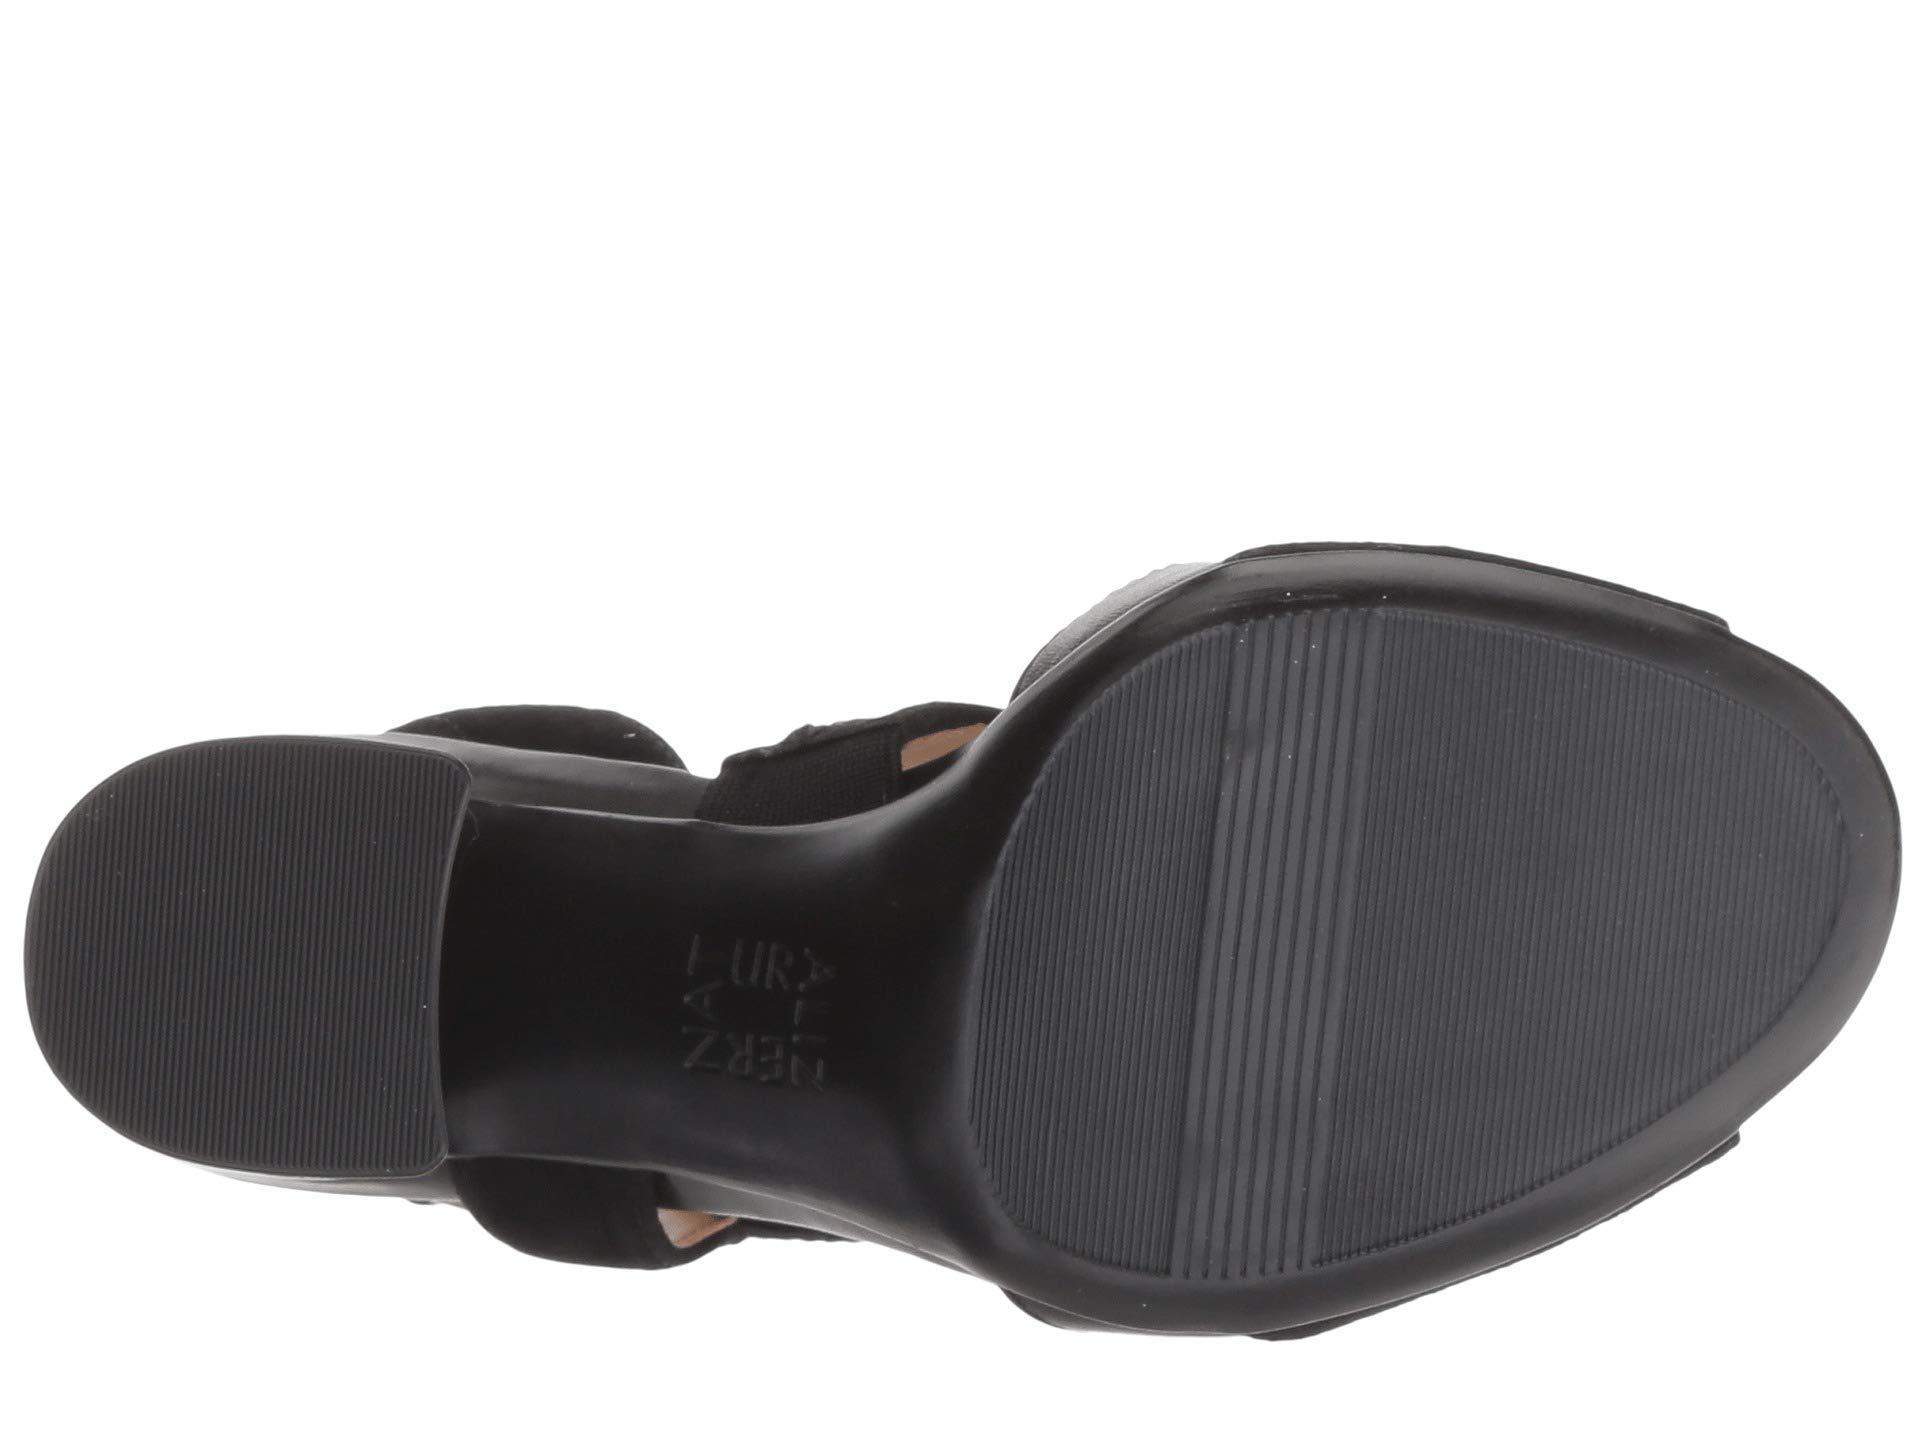line: (1149, 749, 1553, 1091)
